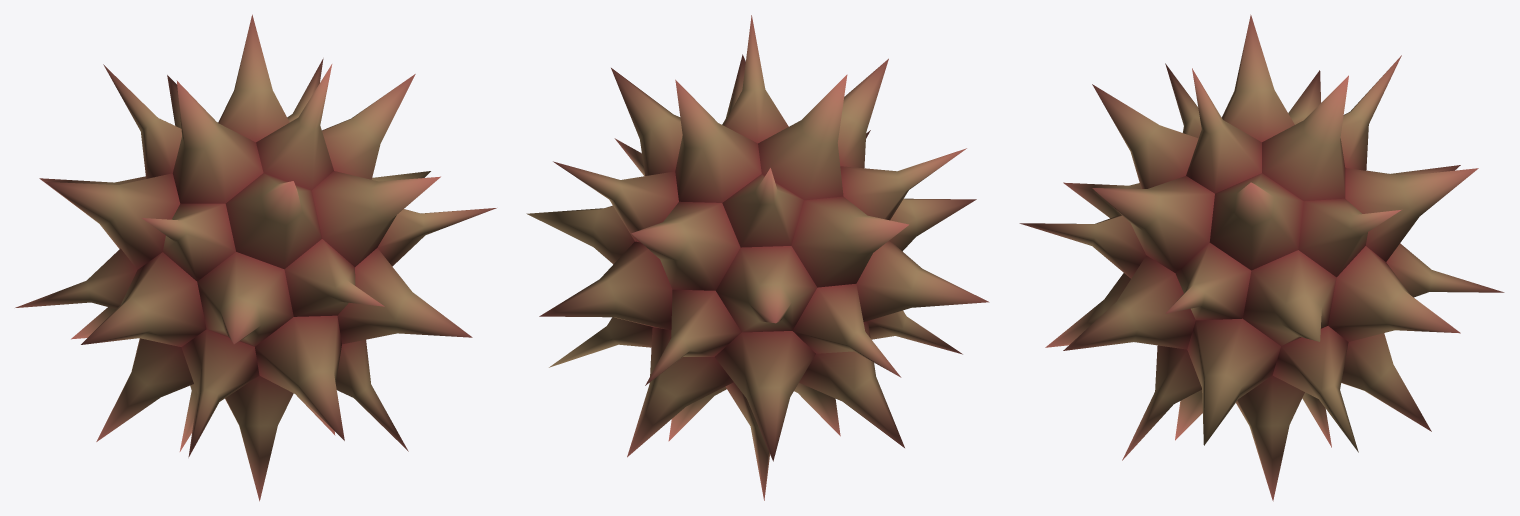
File: microscopic-pollen-spores-sunflower-pollen_v1.glb
The picture shows the model from 3 angles, left to right: view 1: azimuth 30°, elevation 25°; view 2: azimuth 150°, elevation 25°; view 3: azimuth 270°, elevation 25°; orthographic projection.
Parts seen in each view (by area): view 1: Sunflower Pollen_v1; view 2: Sunflower Pollen_v1; view 3: Sunflower Pollen_v1.
Boxes of the visible parts, bbox=[...] form: Sunflower Pollen_v1: bbox=[15, 14, 496, 501]; Sunflower Pollen_v1: bbox=[526, 15, 989, 500]; Sunflower Pollen_v1: bbox=[1019, 14, 1504, 501].
Size of the model in its own units: 0.2915 by 0.2862 by 0.3.
